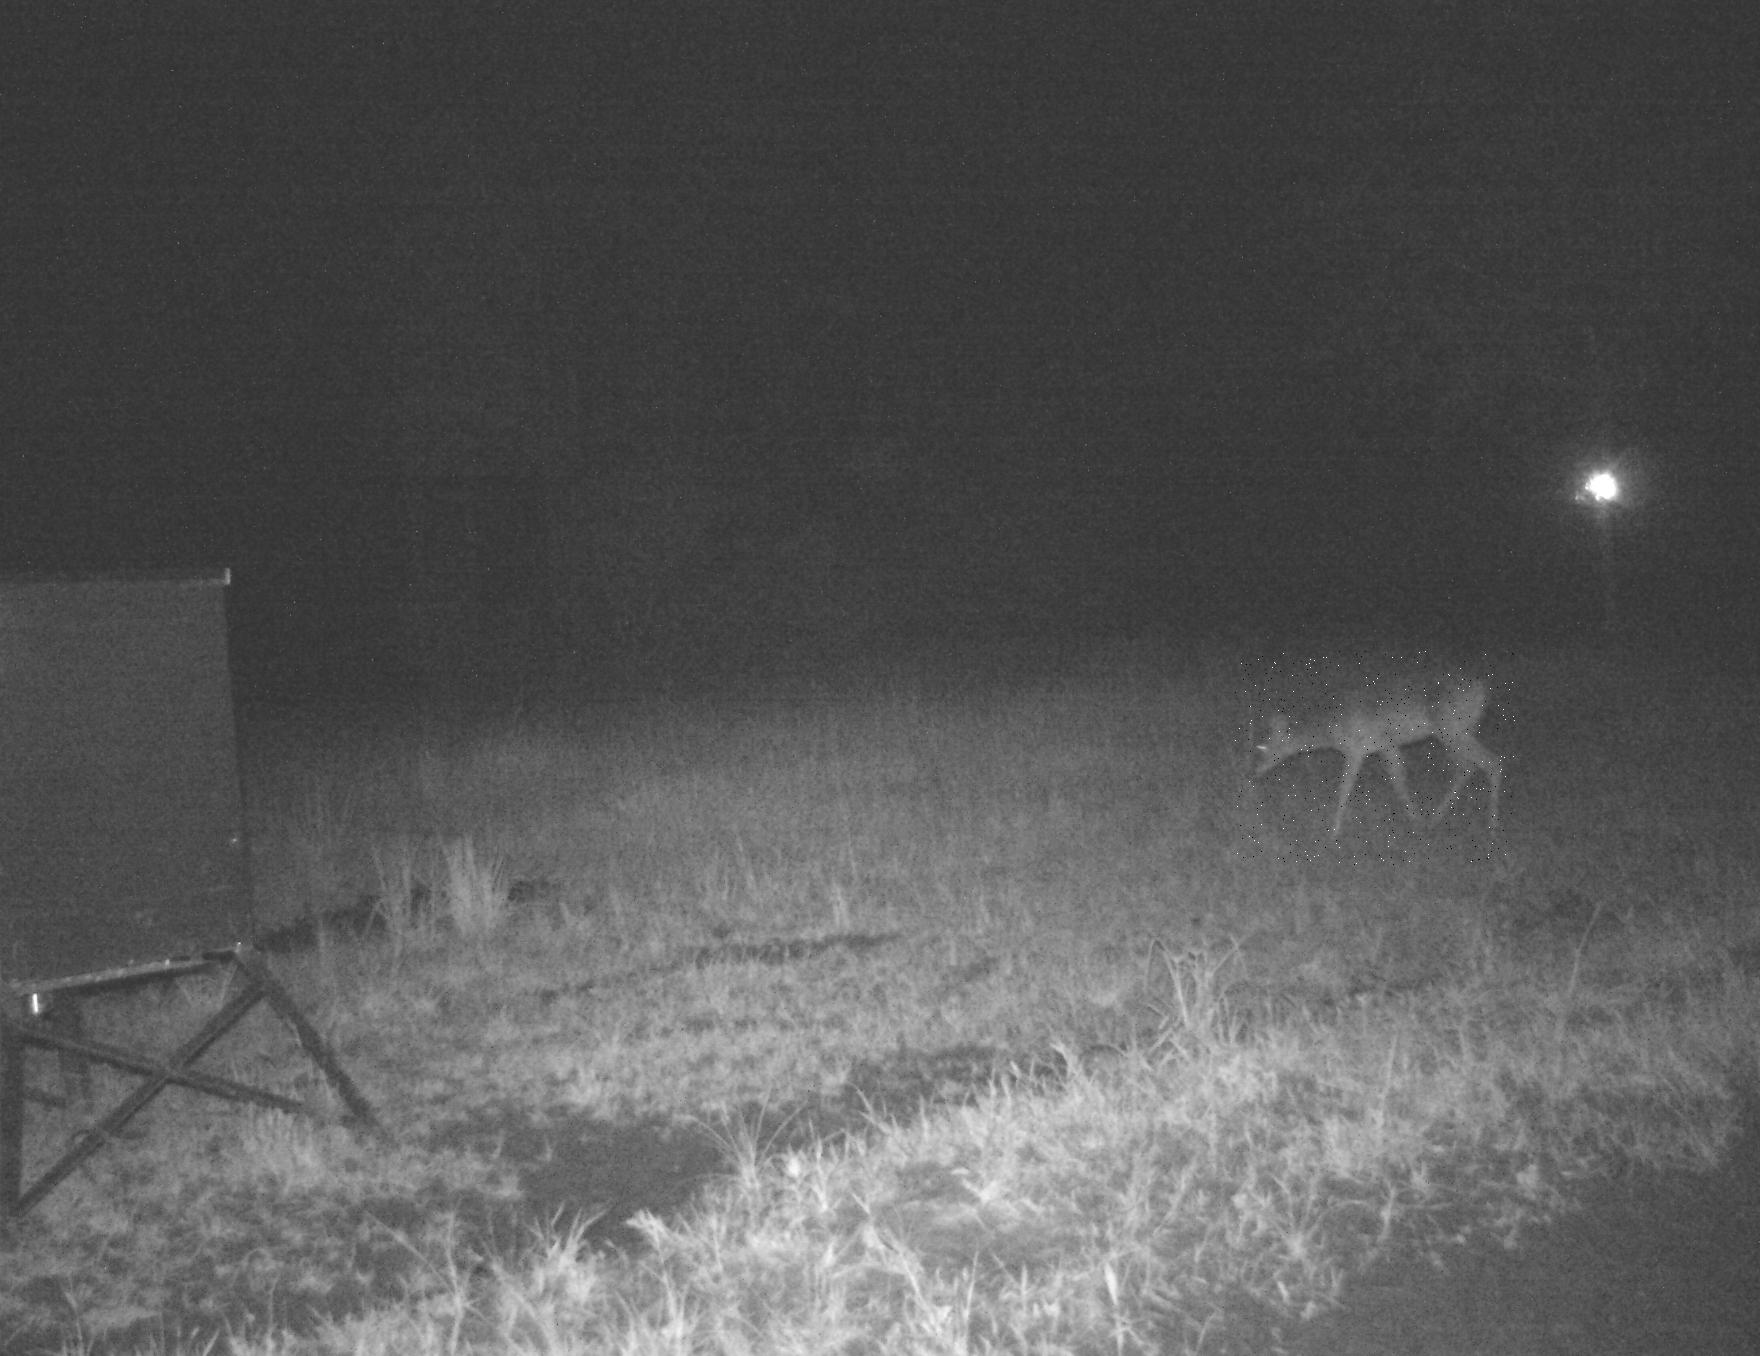Deer: (1233, 651, 1517, 865)
